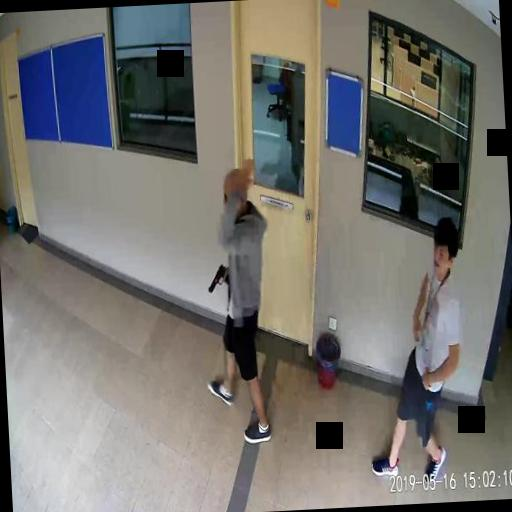Handgun: (205, 262, 228, 292)
